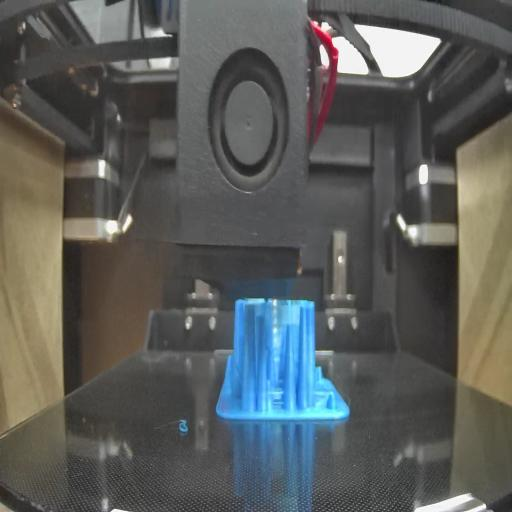stringing: (252, 298, 300, 328), (315, 386, 338, 408), (267, 388, 287, 412)
